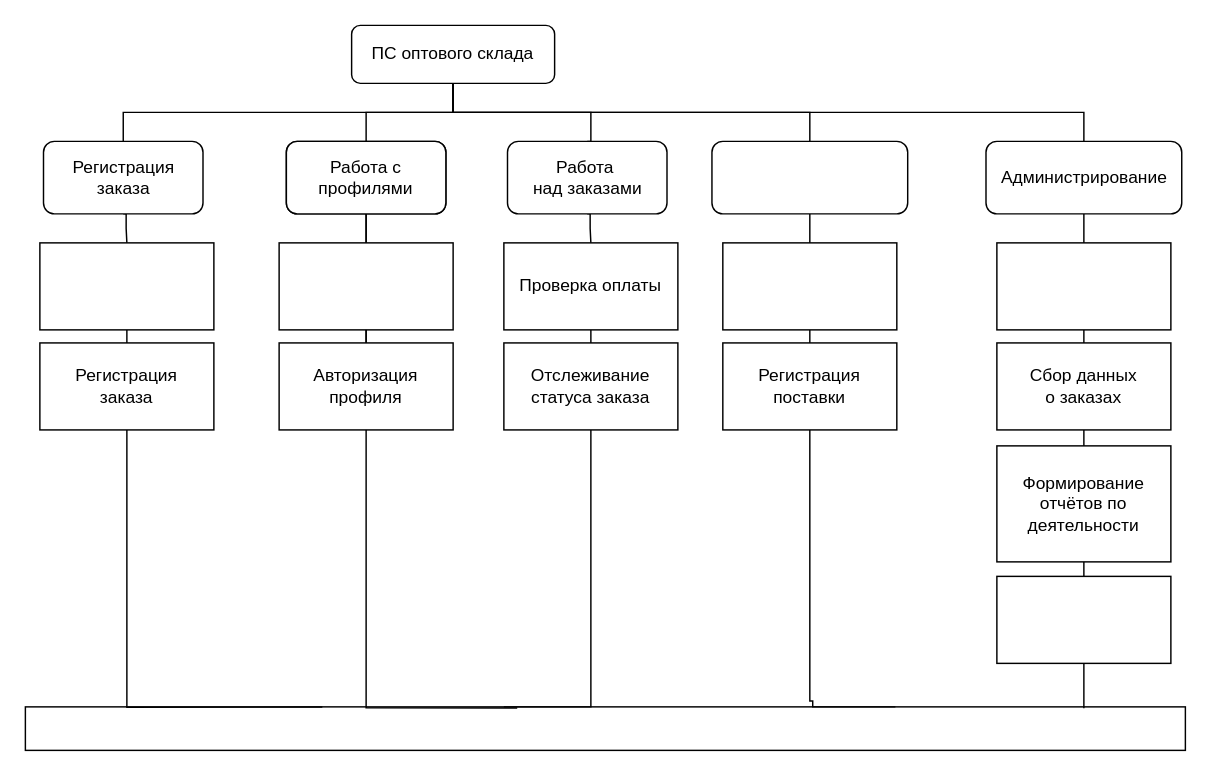
Image size: 1211x776. Some labels were removed from this diagram. The shapes that lost their labels are listed below. From the top down, each one's box as (x1, y1, x2, y2) in pixels, then its label:
(710, 140, 908, 214): Управление поставками
(38, 241, 214, 330): Ввод данных о заказе
(278, 241, 453, 330): Регистрация профиля
(721, 241, 897, 330): Ввод данных о поставке
(995, 241, 1171, 330): Сбор данных о поставках
(995, 575, 1171, 663): Поиск заказа
(24, 705, 1185, 750): База данных
